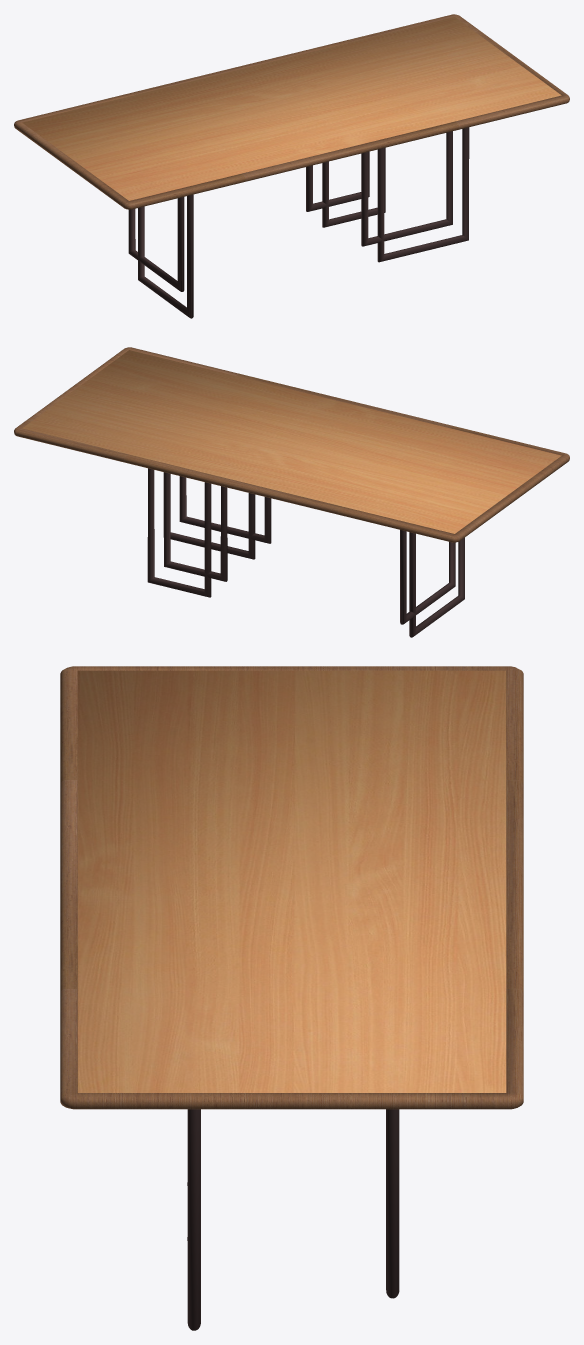
Rendered from xdz2.obj.
The picture shows the model from 3 angles, top to bottom: view 1: azimuth 30°, elevation 25°; view 2: azimuth 150°, elevation 25°; view 3: azimuth 270°, elevation 25°; orthographic projection. The views are drawn at different scales.
Parts seen in each view (by area): view 1: 000xiadele0018; view 2: 000xiadele0018; view 3: 000xiadele0018.
Boxes of the visible parts, x1,y1,x2,y2 form: 000xiadele0018: (14, 14, 569, 318); 000xiadele0018: (14, 347, 569, 637); 000xiadele0018: (60, 666, 523, 1330).
Bounding box in the file's own units: 20.63 × 6.66 × 9.29.
